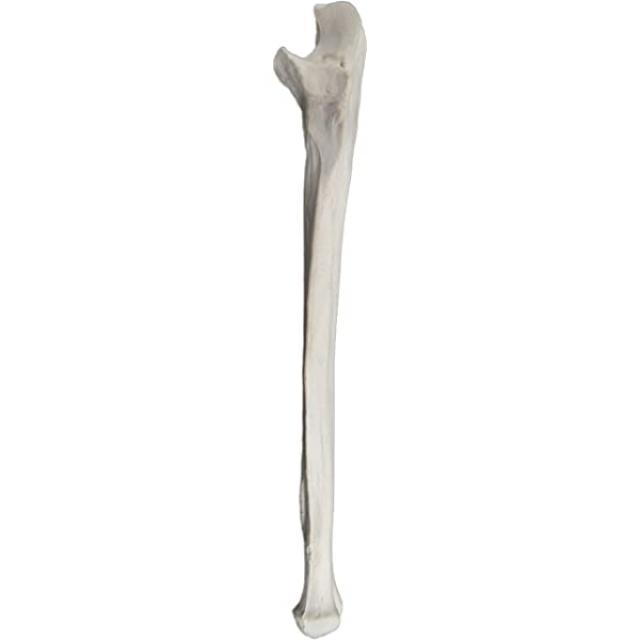bone: (266, 0, 372, 640)
